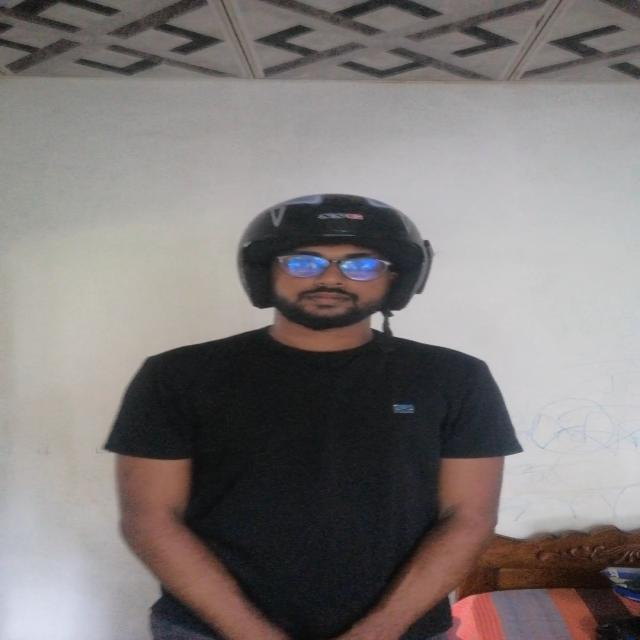Helmet_Wearer: (197, 182, 483, 390)
Person: (114, 186, 515, 640)
